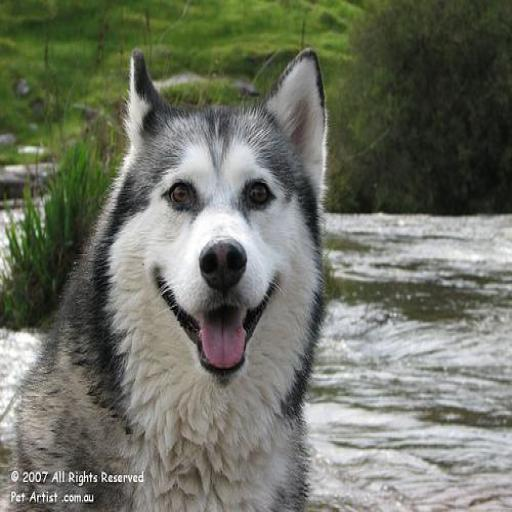dog_face: (127, 53, 322, 370)
